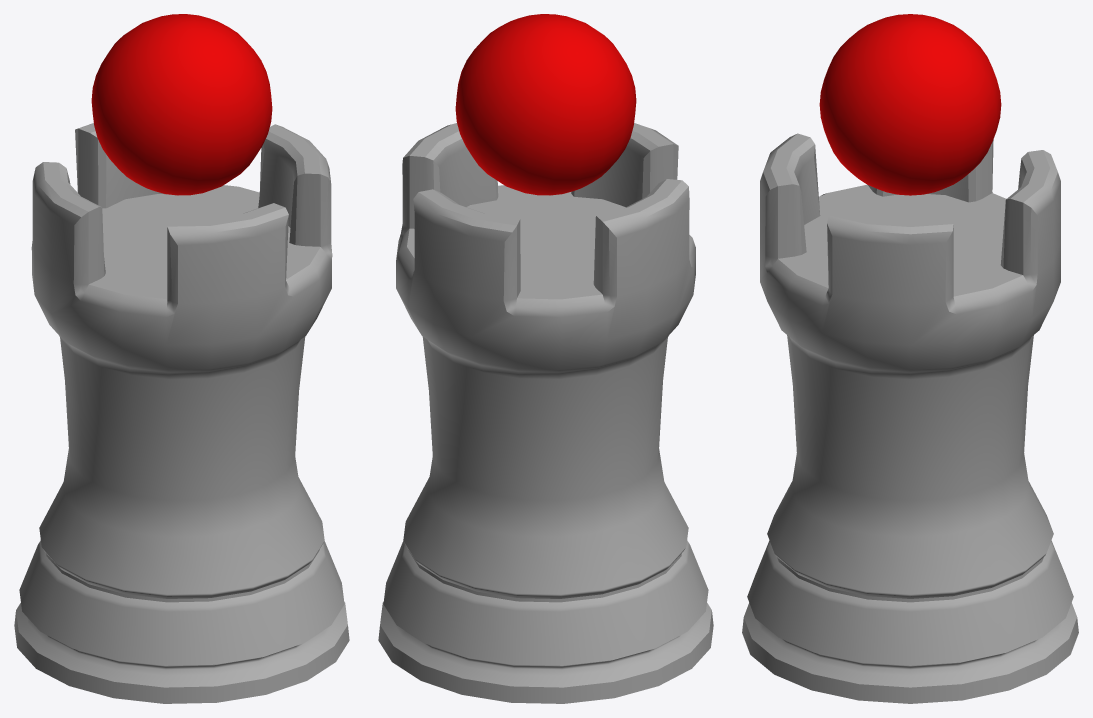
Rendered from path 1.fbx.
The picture shows the model from 3 angles, left to right: view 1: azimuth 30°, elevation 25°; view 2: azimuth 150°, elevation 25°; view 3: azimuth 270°, elevation 25°; orthographic projection.
Parts seen in each view (by area): view 1: magic_orb1; view 2: magic_orb1; view 3: magic_orb1.
Boxes of the visible parts, x1,y1,x2,y2 form: magic_orb1: (14, 14, 349, 703); magic_orb1: (378, 14, 713, 703); magic_orb1: (742, 14, 1078, 703).
Bounding box in the file's own units: 194 × 388 × 194.
